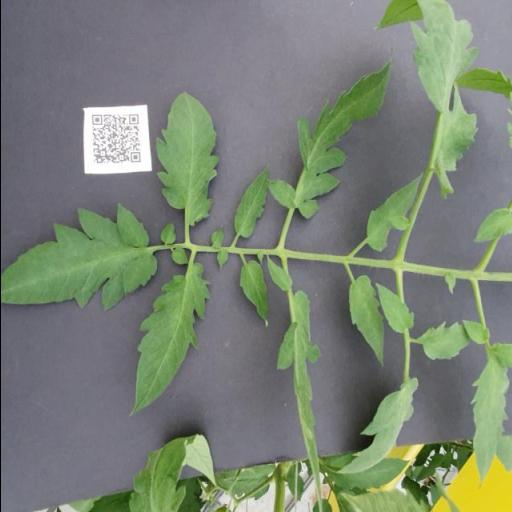Healthy: (264, 59, 390, 219), (0, 205, 158, 311), (126, 262, 210, 416), (155, 92, 220, 226), (332, 378, 418, 474), (470, 342, 512, 482), (364, 172, 424, 252), (348, 275, 384, 366), (233, 160, 272, 238), (418, 322, 470, 362), (239, 260, 269, 326)
